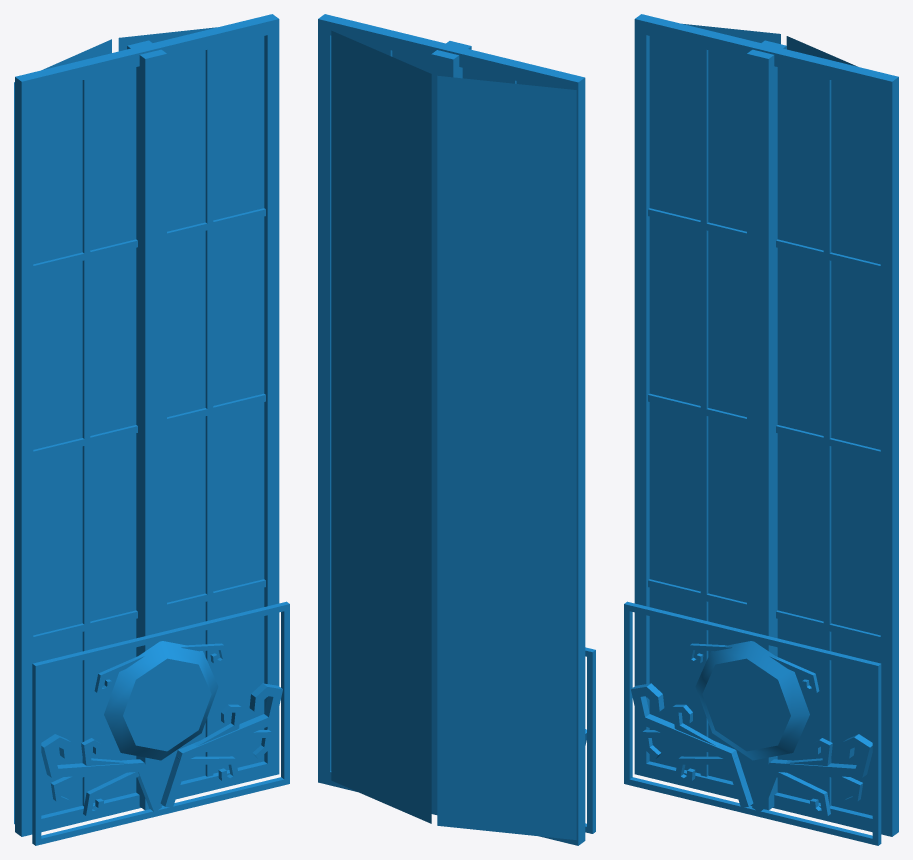
File: wall_window.fbx
3 views of the same model, side by side, from view 1: azimuth 30°, elevation 25°; view 2: azimuth 150°, elevation 25°; view 3: azimuth 330°, elevation 25° (orthographic).
Visible parts, largest first — view 1: wall_window; view 2: wall_window; view 3: wall_window.
Boxes of the visible parts, x1,y1,x2,y2 form: wall_window: (14,14,289,845); wall_window: (318,14,595,845); wall_window: (624,14,898,845).
Bounding box in the file's own units: 81.63 × 229 × 24.58.
